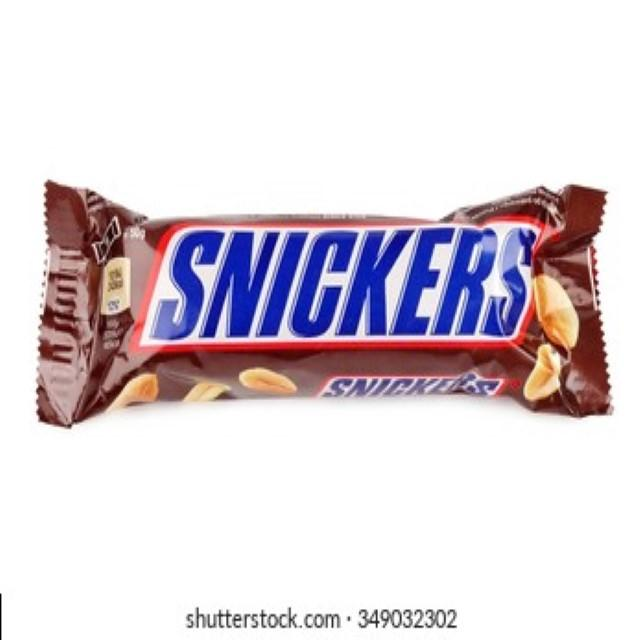snickers_chocolate: (52, 182, 598, 456)
